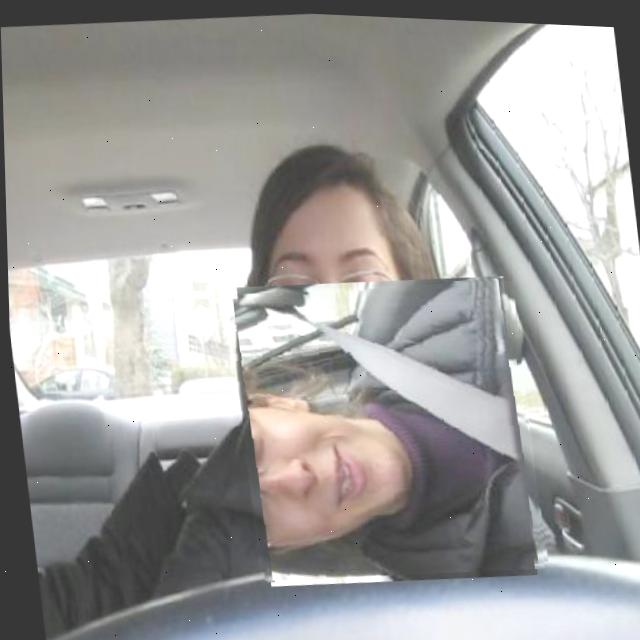seatbelt: (224, 265, 544, 588)
